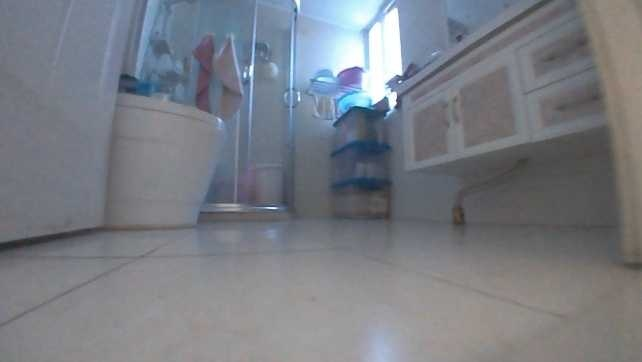door_sill: (199, 199, 294, 224)
toilet: (104, 90, 227, 230)
washstand: (395, 2, 614, 177)
